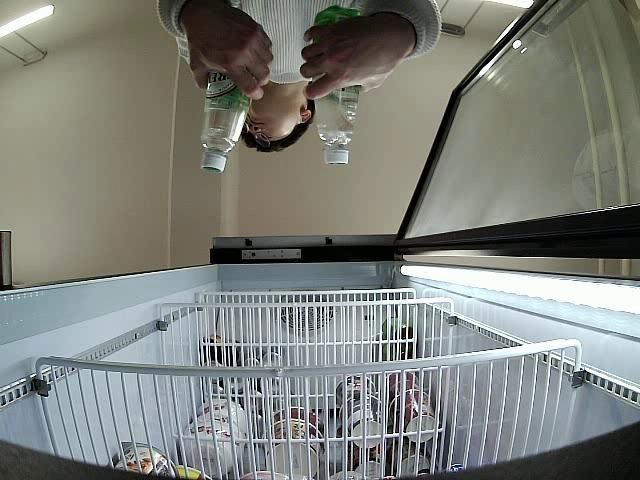18_trevi: (313, 7, 365, 166), (200, 30, 252, 174)
